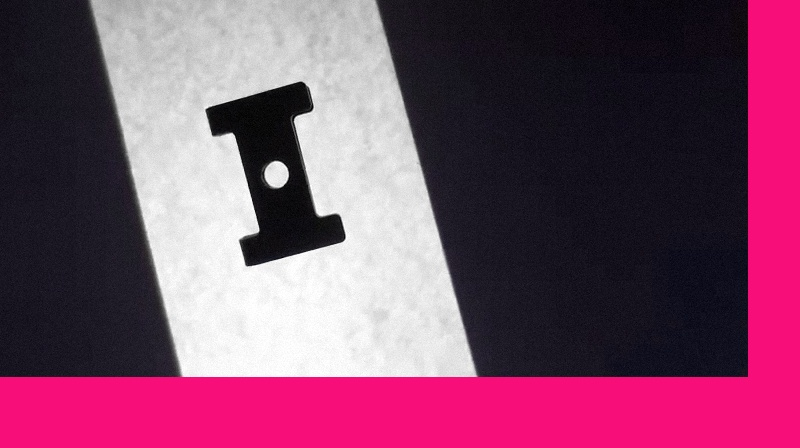O002: (197, 79, 350, 269)
